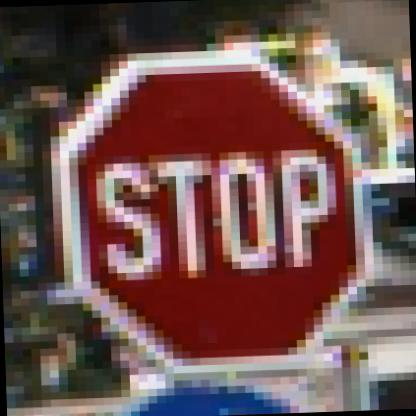stop: (49, 36, 370, 380)
